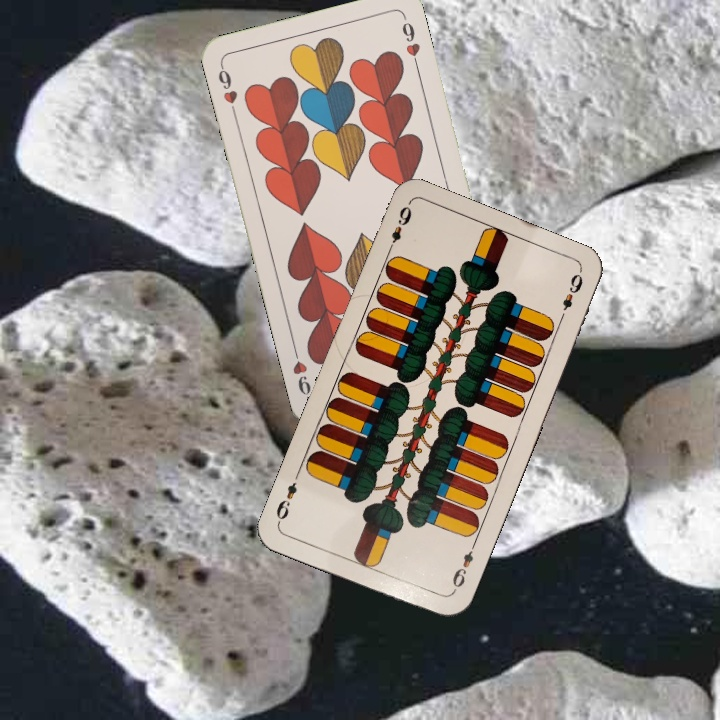E9: (383, 202, 415, 257), (448, 539, 478, 596)
H9: (214, 60, 240, 119)
